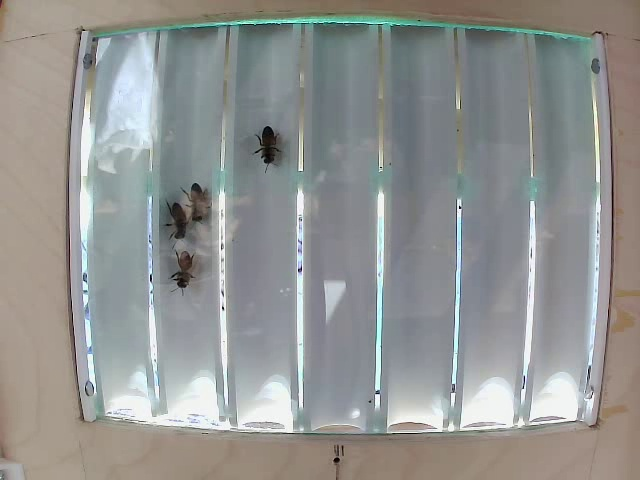bee: (160, 242, 204, 304), (155, 197, 188, 253), (186, 176, 222, 225), (262, 113, 290, 171)
